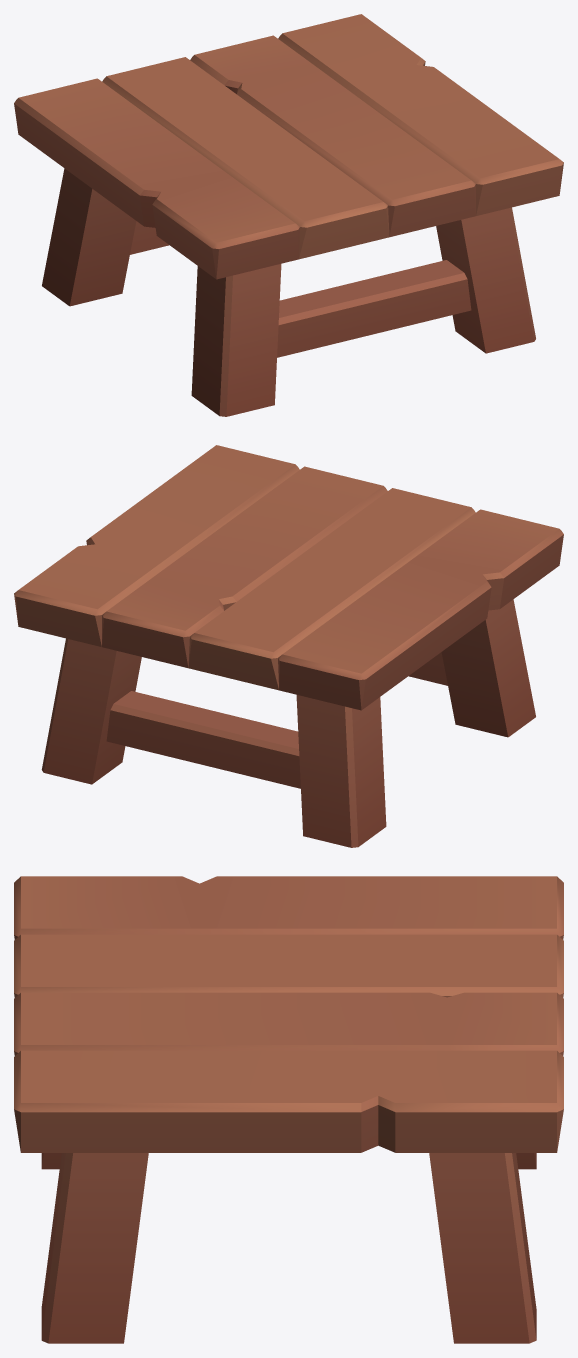
File: prop_table_medium.glb
3 views of the same model, one above another, from view 1: azimuth 30°, elevation 25°; view 2: azimuth 150°, elevation 25°; view 3: azimuth 270°, elevation 25° (orthographic). The views are drawn at different scales.
Parts seen in each view (by area): view 1: table_medium; view 2: table_medium; view 3: table_medium.
Part boxes in pixels (x1=…): table_medium: x1=14, y1=14, x2=563, y2=416; table_medium: x1=14, y1=445, x2=563, y2=847; table_medium: x1=14, y1=876, x2=563, y2=1343.
Bounding box in the file's own units: 2 × 1 × 2.
Materials: 1 (1 with a texture image).
